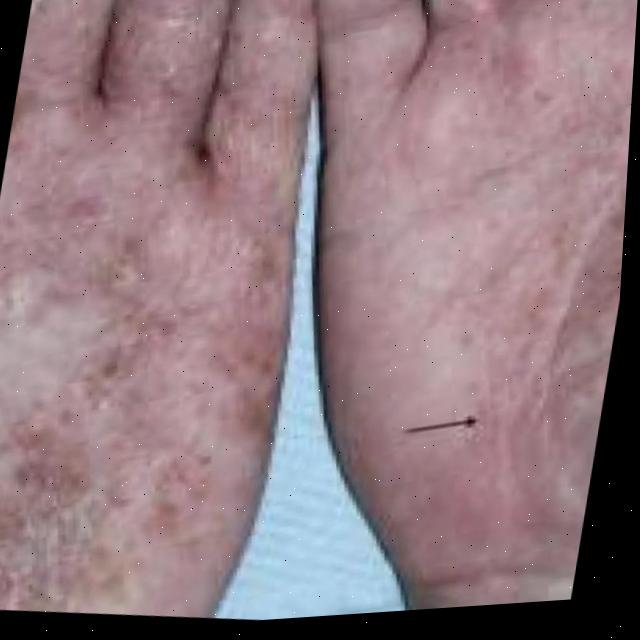Eczema: (0, 0, 332, 636), (373, 0, 638, 585)
